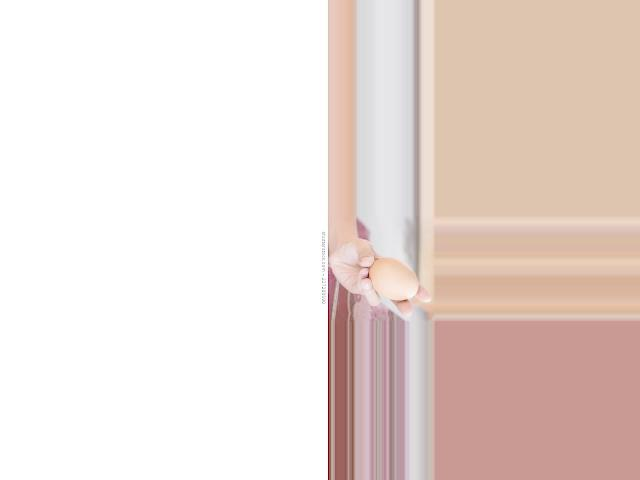egg: (369, 258, 418, 301)
